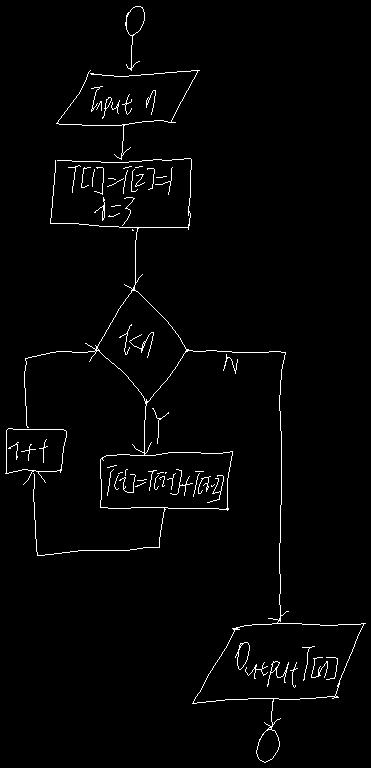arrow: (185, 350, 288, 623), (23, 471, 165, 555), (24, 343, 99, 427), (124, 228, 142, 290), (132, 399, 151, 454), (114, 124, 130, 159), (264, 699, 280, 729), (126, 35, 139, 70)
connection: (256, 726, 279, 762), (125, 6, 144, 35)
data: (192, 623, 365, 703), (56, 70, 199, 125)
decision: (95, 288, 188, 403)
process: (50, 158, 191, 229), (100, 451, 232, 510), (5, 428, 66, 473)
text: (68, 165, 172, 225), (235, 642, 337, 687), (107, 465, 223, 502), (91, 86, 155, 118), (119, 324, 153, 357), (8, 439, 47, 462), (152, 408, 168, 443), (223, 354, 237, 373)
